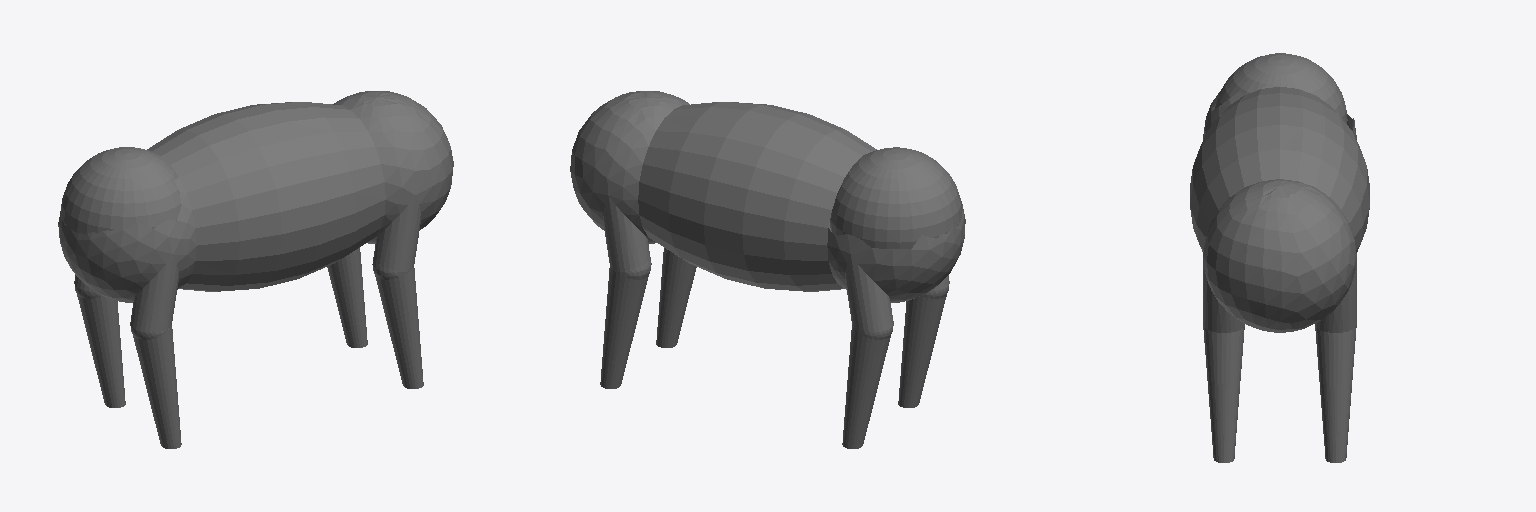
Rendered from cuerpoAnim.obj.
3 renders of one model, left to right at view 1: azimuth 30°, elevation 25°; view 2: azimuth 150°, elevation 25°; view 3: azimuth 270°, elevation 25°, orthographic.
Visible parts, largest first — view 1: node_id3, Sphere001; view 2: node_id3, Sphere001; view 3: node_id3, Sphere001.
Boxes of the visible parts, box(x1,y1,x2,y2) form: node_id3: box(58, 91, 453, 448); Sphere001: box(61, 147, 181, 233); node_id3: box(570, 91, 965, 448); Sphere001: box(830, 147, 961, 249); node_id3: box(1190, 86, 1369, 462); Sphere001: box(1215, 53, 1347, 123).
Size of the model in its own units: 0.3234 by 0.232 by 0.1345.